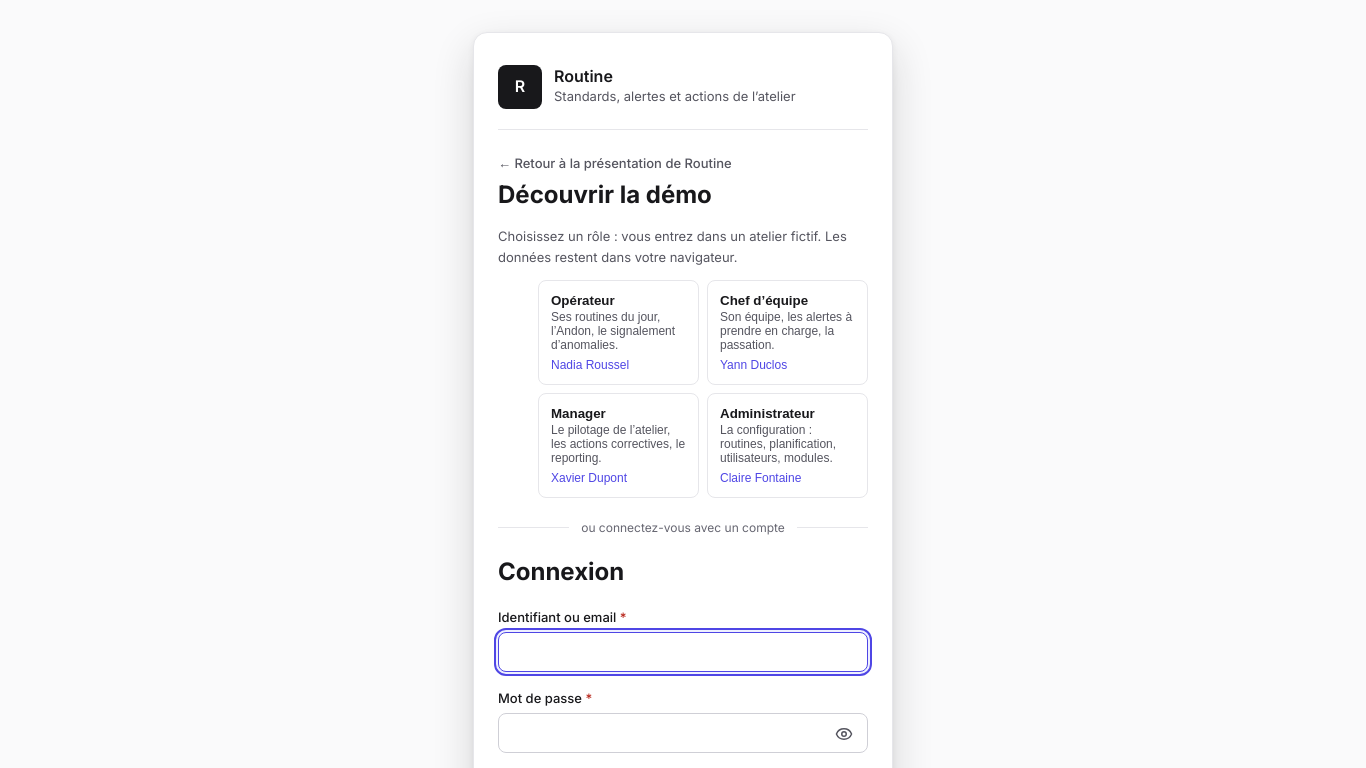
connexion et droits › connexion par identifiant et mot de passe ; aucune mention du mode démo
Type "karim.benali@atelier.local" into the field labelled "Identifiant ou email *".
click(683, 652); type("karim.benali@atelier.local")  # box [498,632,868,672]
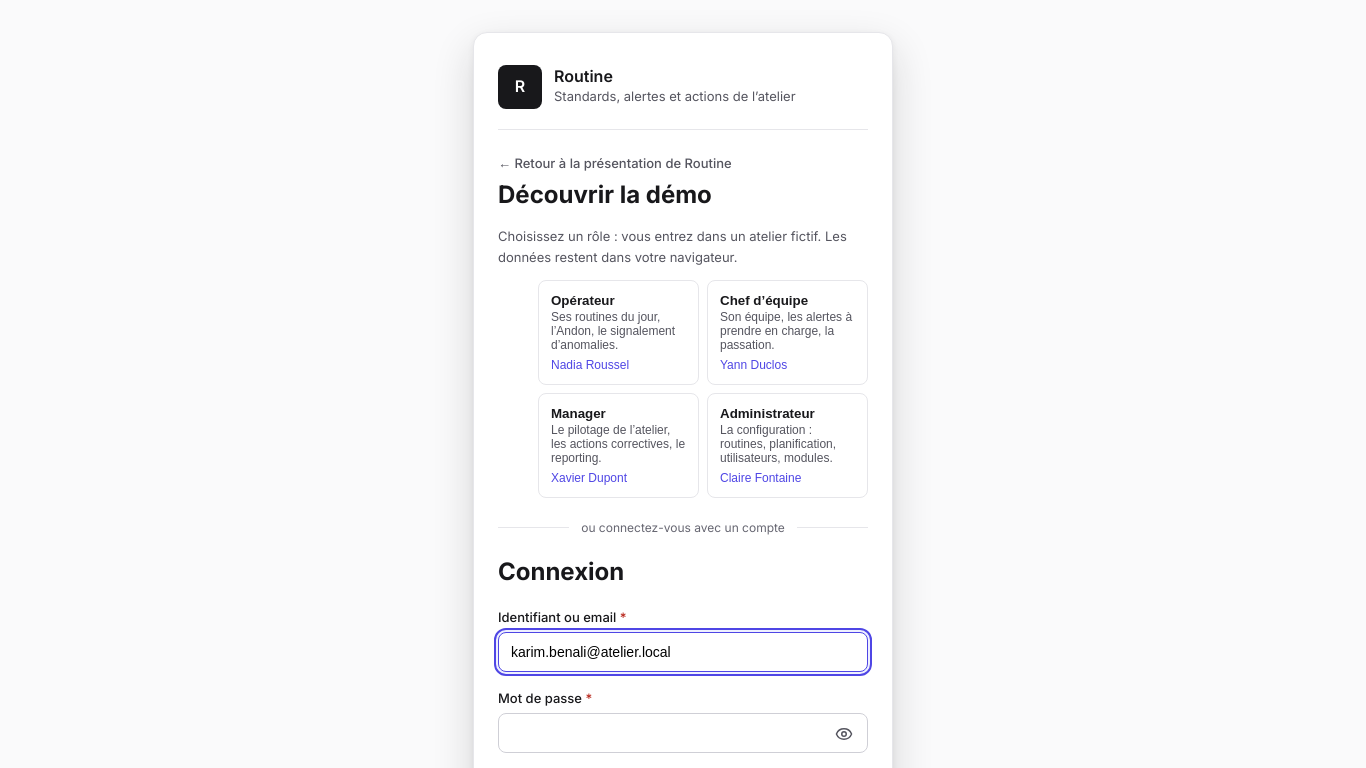
Type "Routines2026" into the password field labelled "Mot de passe *".
click(683, 733); type("Routines2026")  # box [498,713,868,753]
(page scrolled)
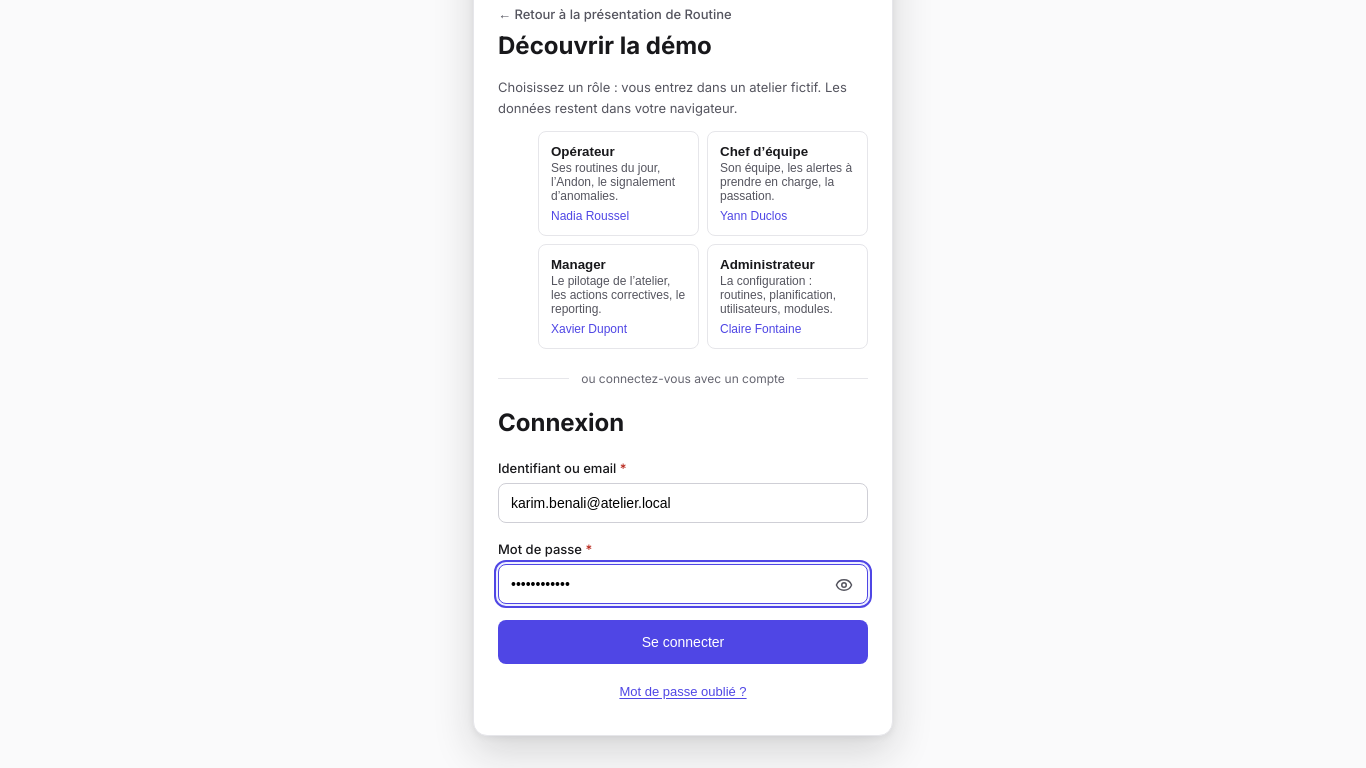
Click the button "Se connecter".
click(683, 642)  # box [498,620,868,664]
(page scrolled)
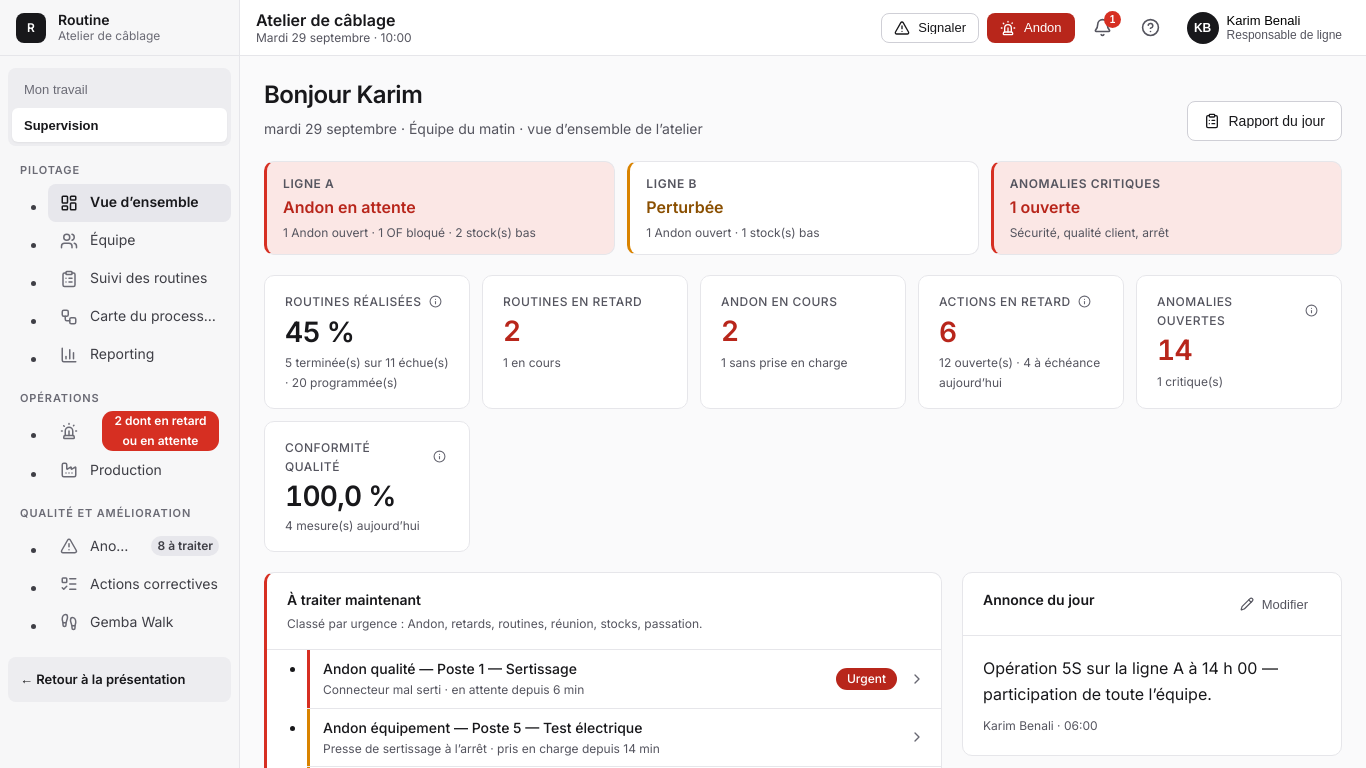
Now the heading "Bonjour Karim" is shown, box [264,80,422,109]
